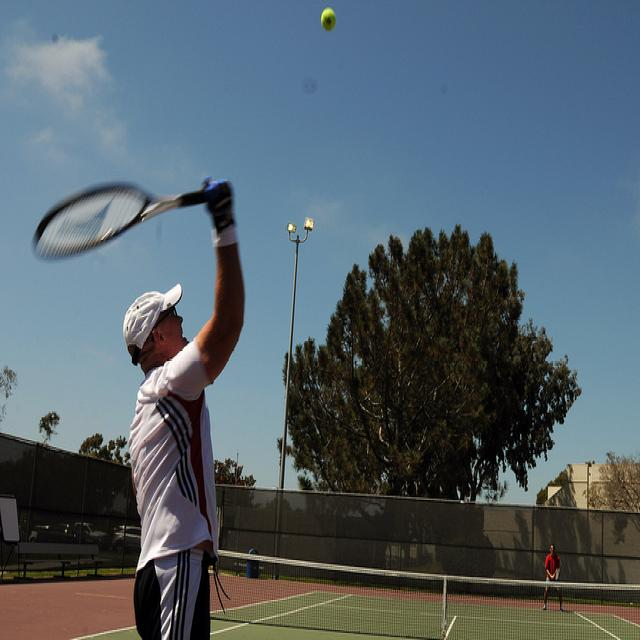Vehicle: (108, 526, 141, 554), (75, 522, 106, 550), (41, 526, 79, 544)
